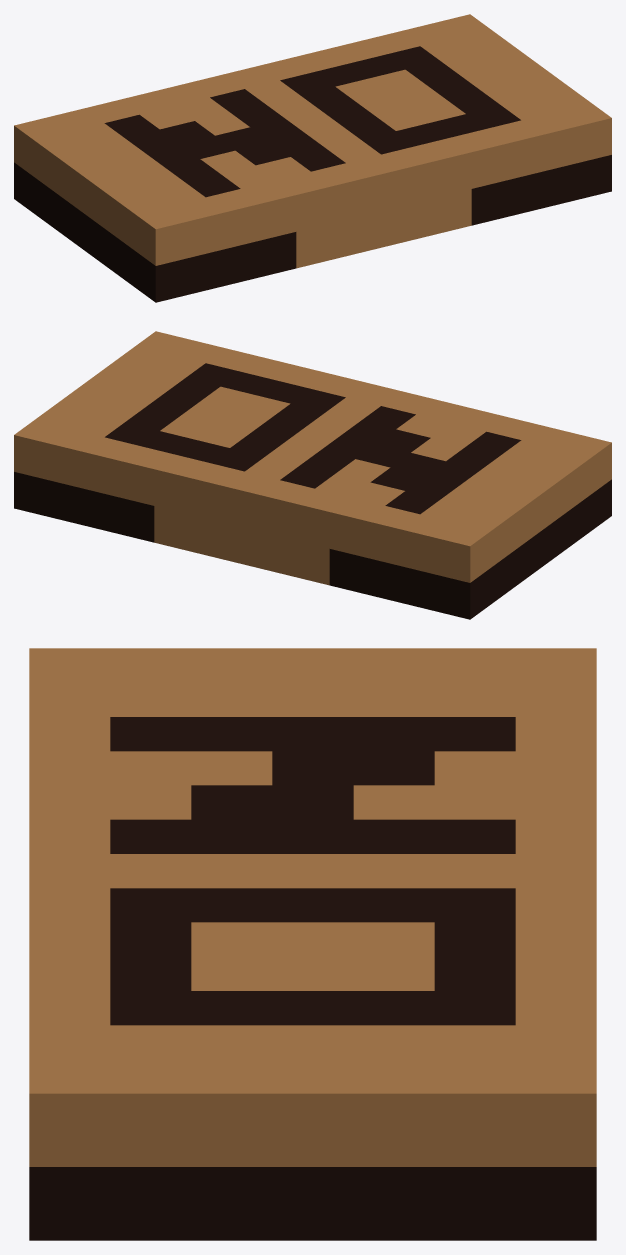
The model's file is No_Spare.obj.
The picture shows the model from 3 angles, top to bottom: view 1: azimuth 30°, elevation 25°; view 2: azimuth 150°, elevation 25°; view 3: azimuth 270°, elevation 25°; orthographic projection. The views are drawn at different scales.
Bounding box in the file's own units: 1.3 × 0.2 × 0.7.
1 material, 1 textured.
